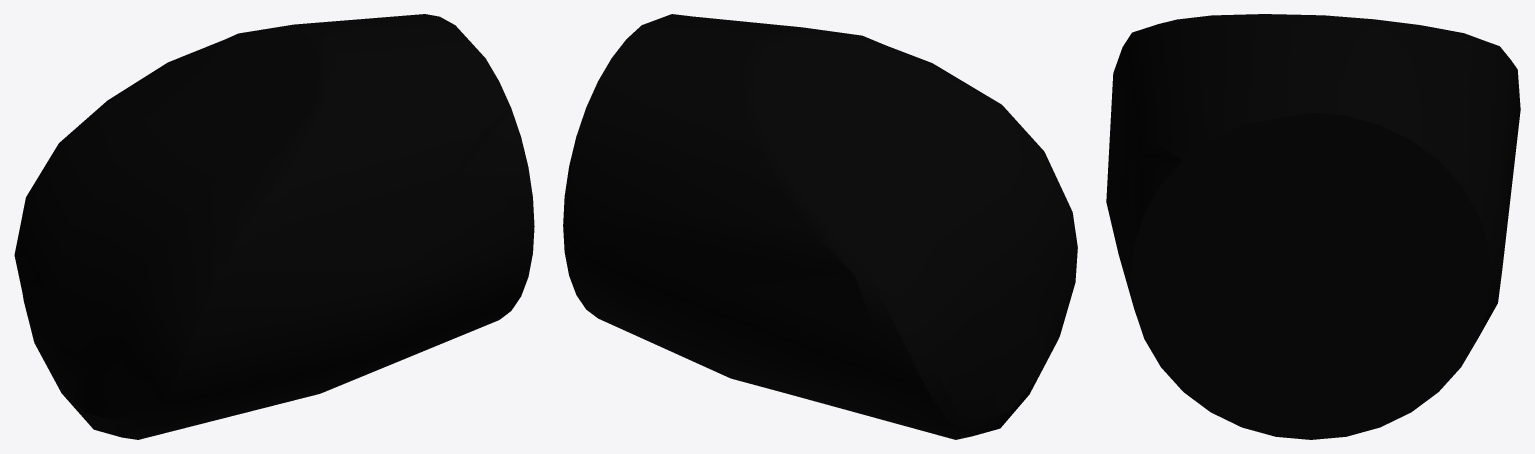
File: RElbowRoll.obj
3 views of the same model, side by side, from view 1: azimuth 30°, elevation 25°; view 2: azimuth 150°, elevation 25°; view 3: azimuth 270°, elevation 25° (orthographic). The views are drawn at different scales.
Size of the model in its own units: 0.8133 by 0.718 by 0.6915.
